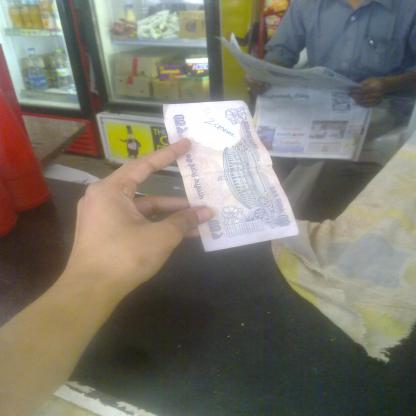Old50Back: (163, 100, 299, 252)
